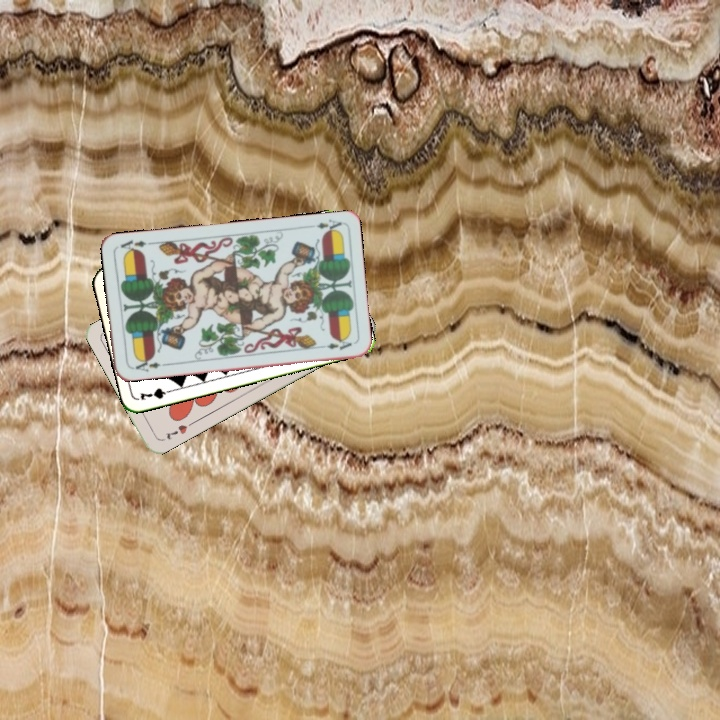EA: (132, 354, 168, 374), (312, 215, 344, 236)
G7: (136, 384, 176, 403)
H7: (161, 420, 190, 443)
